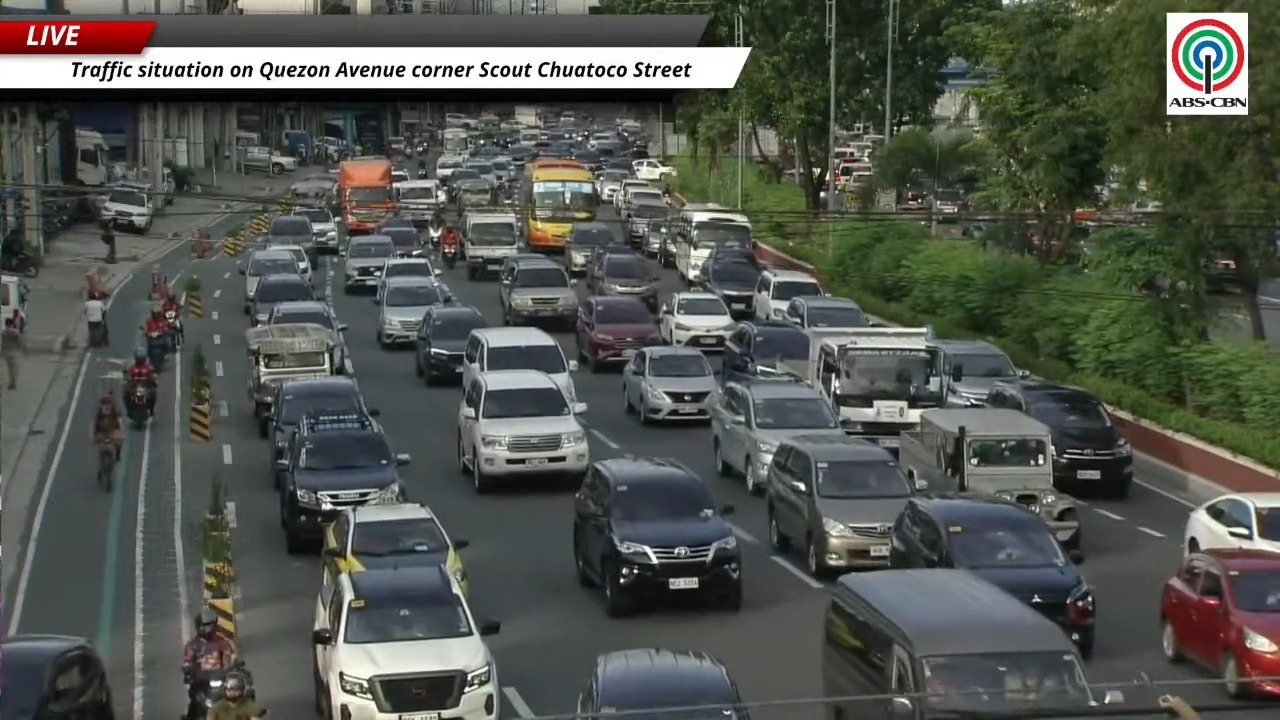bus: (521, 159, 598, 252)
car: (820, 569, 1124, 719), (890, 492, 1096, 659), (312, 565, 499, 719), (573, 457, 741, 617), (765, 435, 914, 576), (276, 408, 409, 553), (1159, 549, 1279, 697), (985, 378, 1132, 498), (458, 370, 589, 493), (711, 380, 844, 494), (321, 503, 468, 594), (269, 376, 378, 489), (577, 648, 748, 719), (0, 634, 114, 719), (463, 327, 577, 401), (623, 346, 717, 423), (575, 295, 661, 371), (933, 339, 1028, 406), (264, 300, 347, 373), (1182, 492, 1279, 552), (415, 305, 487, 385), (374, 276, 453, 348), (498, 254, 578, 325), (723, 322, 810, 378), (658, 291, 737, 349), (460, 209, 521, 279), (587, 252, 657, 312), (239, 249, 296, 314), (753, 268, 825, 319), (249, 272, 316, 326), (699, 261, 759, 319), (564, 221, 622, 275), (342, 235, 395, 293), (783, 295, 867, 329), (375, 257, 441, 297), (265, 211, 314, 263), (694, 245, 761, 283), (100, 186, 153, 233), (625, 194, 669, 247), (396, 179, 443, 226), (586, 242, 639, 283), (293, 207, 337, 253), (267, 240, 313, 282), (619, 187, 668, 222), (615, 181, 660, 219), (240, 146, 297, 174), (378, 224, 422, 257), (613, 175, 651, 211), (930, 189, 967, 222), (641, 217, 668, 260), (596, 169, 631, 202), (633, 158, 676, 181), (464, 161, 497, 187), (435, 153, 463, 183), (372, 214, 412, 233), (605, 157, 634, 177), (391, 170, 409, 186)
motorcycle: (185, 661, 255, 719), (0, 232, 38, 277), (125, 382, 150, 429), (146, 331, 168, 372), (165, 310, 183, 352), (440, 242, 458, 269), (428, 225, 444, 248), (417, 167, 428, 178)
truck: (779, 327, 947, 453), (338, 159, 394, 234), (75, 127, 112, 186), (514, 105, 540, 127)
